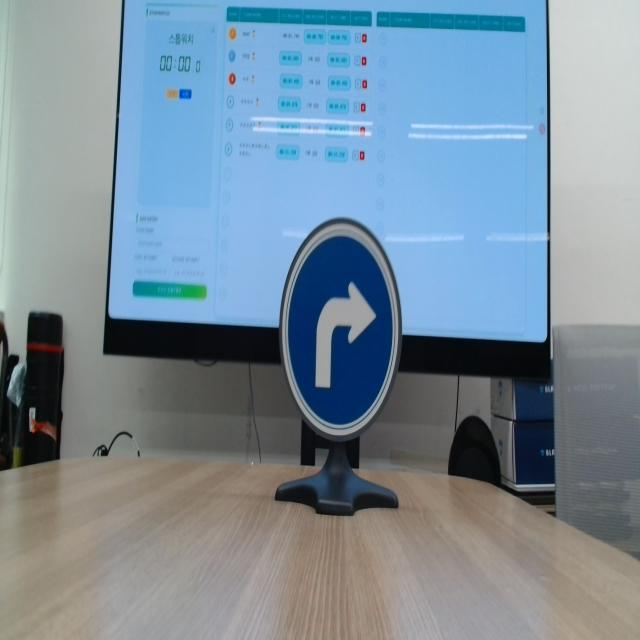right_dierection: (271, 197, 422, 488)
